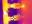Hotspot: (3, 0, 10, 23), (20, 4, 25, 8), (11, 4, 15, 7)
